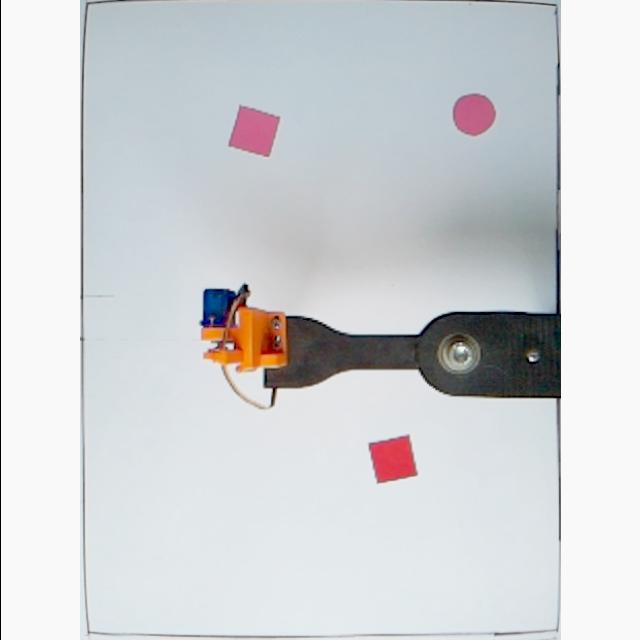pinkCircle: (452, 93, 498, 137)
pinkSquare: (228, 104, 282, 158)
redSquare: (368, 432, 420, 488)
